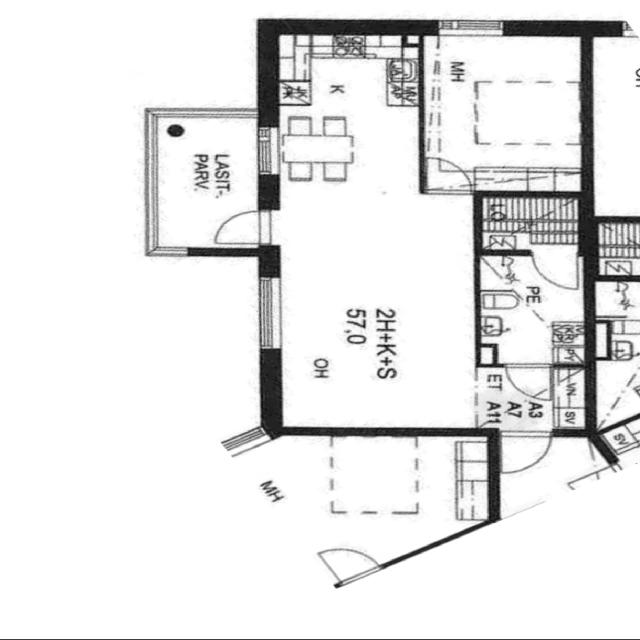door: (476, 362, 582, 428), (500, 429, 555, 475), (208, 208, 276, 245), (528, 246, 582, 292), (424, 157, 478, 198), (496, 362, 556, 398)
window: (250, 270, 290, 358), (252, 123, 282, 181), (598, 428, 639, 470), (435, 18, 510, 36)
zone: (420, 31, 582, 193), (475, 250, 589, 368), (473, 361, 583, 429), (474, 194, 584, 249)
